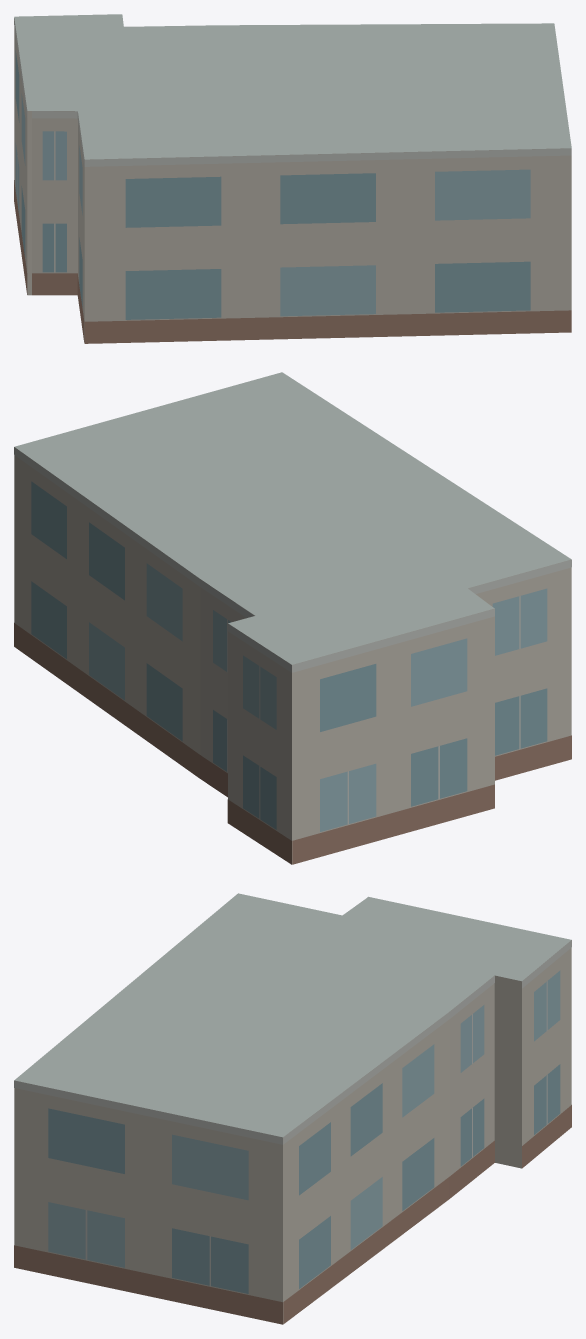
File: survey-upis-32797900.glb
3 renders of one model, top to bottom at view 1: azimuth 30°, elevation 25°; view 2: azimuth 150°, elevation 25°; view 3: azimuth 270°, elevation 25°, orthographic. The views are drawn at different scales.
Visible parts, largest first — view 1: survey-upis-32797900.tmp; view 2: survey-upis-32797900.tmp; view 3: survey-upis-32797900.tmp.
Boxes of the visible parts, x1,y1,x2,y2 form: survey-upis-32797900.tmp: (14,14,571,343); survey-upis-32797900.tmp: (14,372,571,864); survey-upis-32797900.tmp: (14,893,571,1324).
Size of the model in its own units: 17.06 by 6.1 by 16.47.
